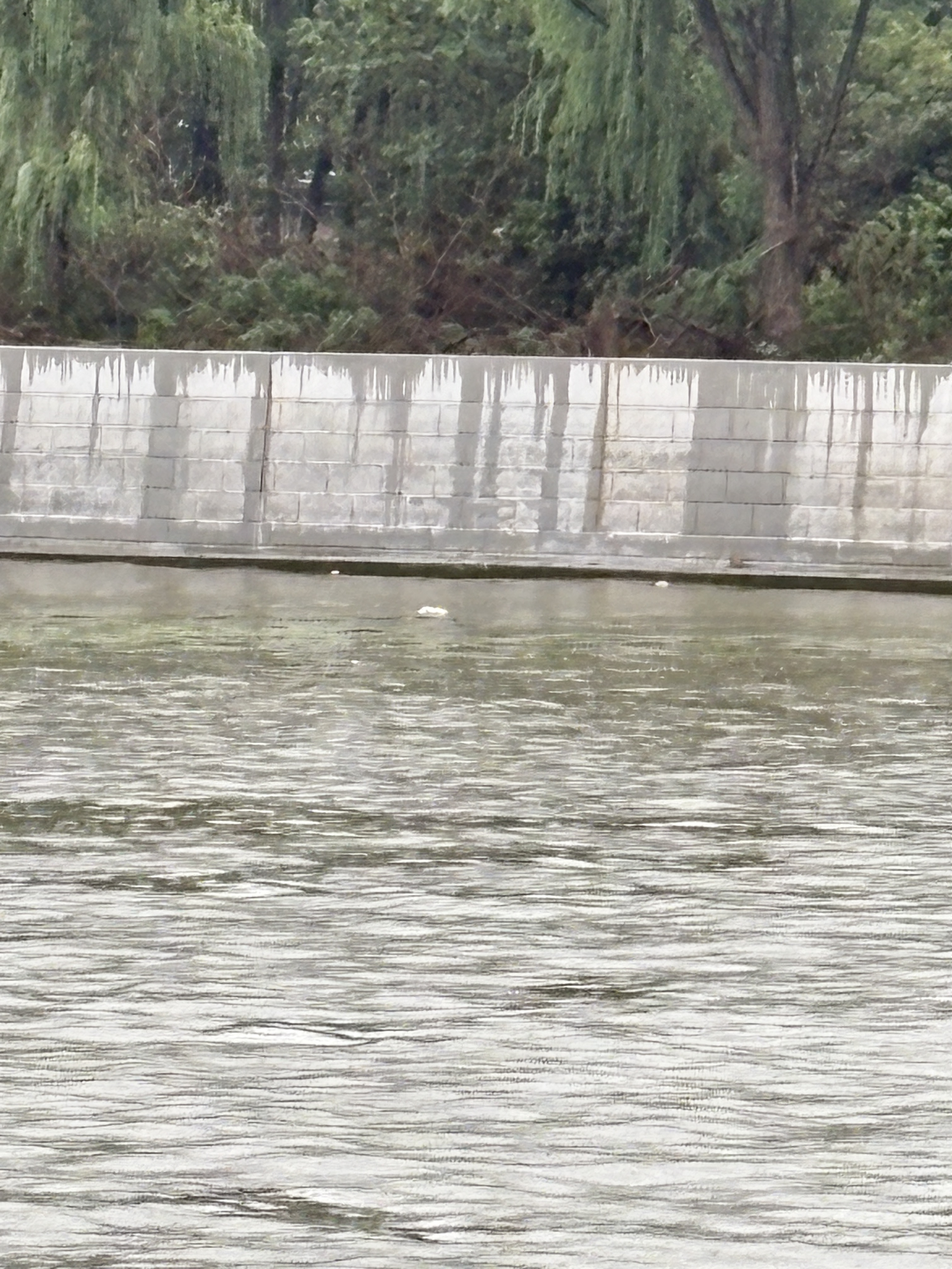Plastic wastes: (451, 670, 468, 714), (432, 371, 444, 400), (423, 817, 436, 827)
